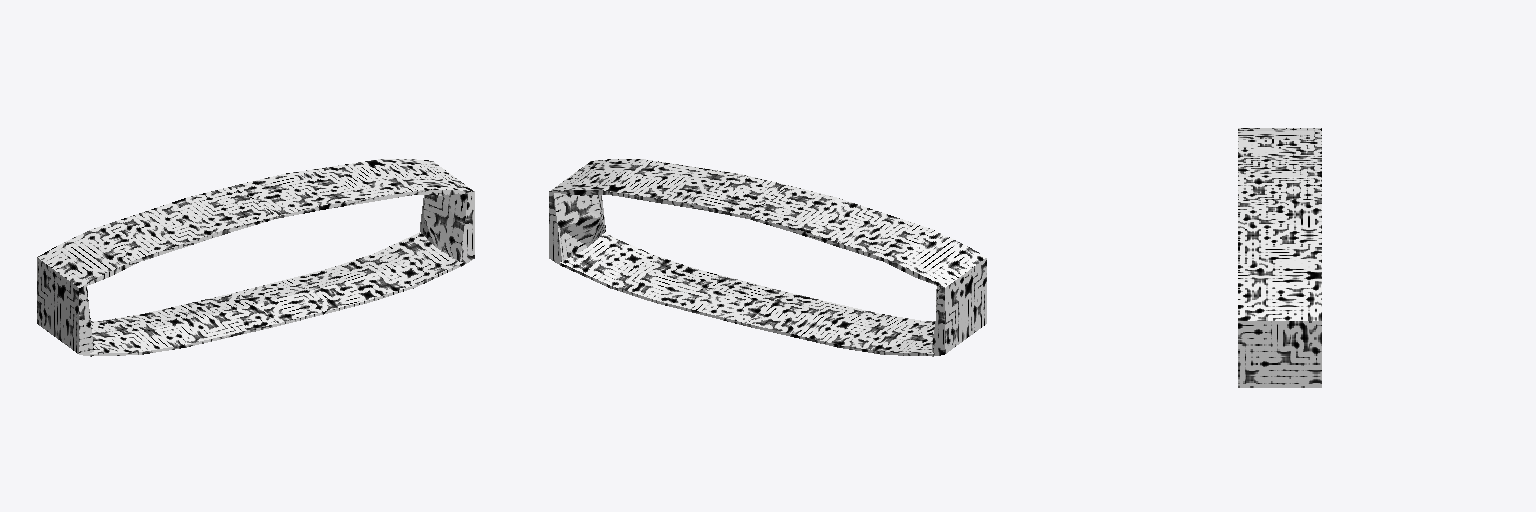
3 views of the same model, side by side, from view 1: azimuth 30°, elevation 25°; view 2: azimuth 150°, elevation 25°; view 3: azimuth 270°, elevation 25° (orthographic).
Parts seen in each view (by area): view 1: Cube; view 2: Cube; view 3: Cube.
Boxes of the visible parts, box(x1,y1,x2,y2) form: Cube: box(37, 159, 474, 356); Cube: box(549, 159, 986, 356); Cube: box(1238, 128, 1321, 387).
Bounding box in the file's own units: 44.16 × 11.73 × 8.19.
1 materials, 1 textured.